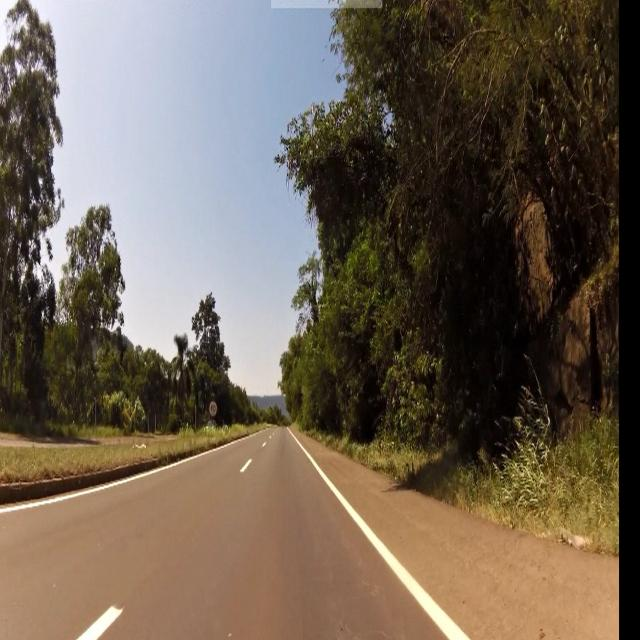R-19: (210, 401, 217, 416)
